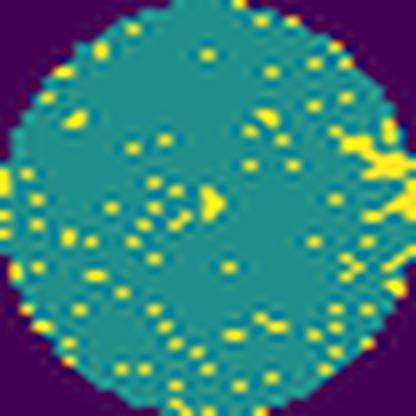Loc: (329, 121, 416, 177)
